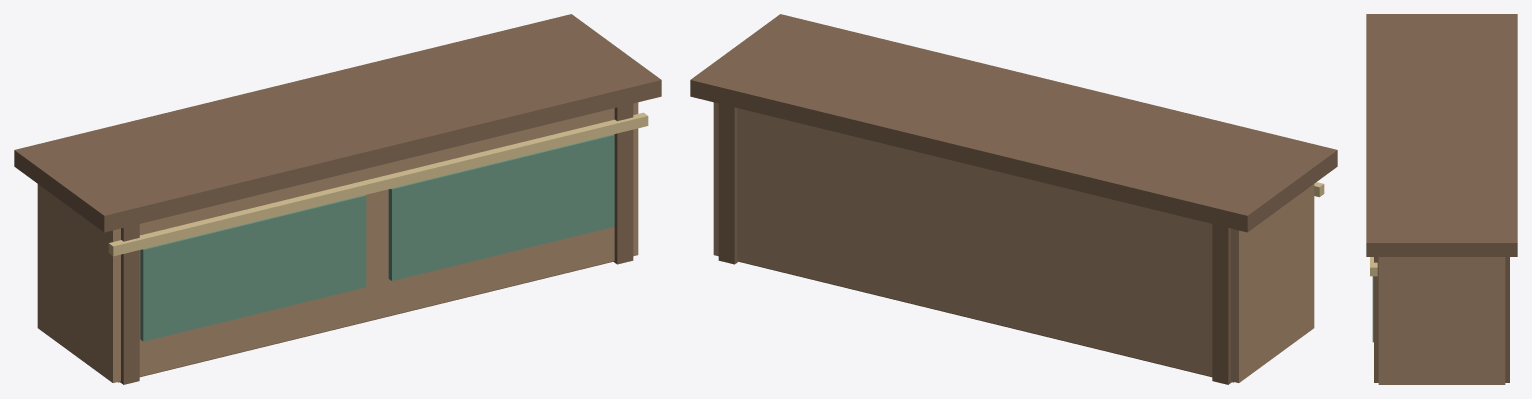
File: shop_counter.glb
The picture shows the model from 3 angles, left to right: view 1: azimuth 30°, elevation 25°; view 2: azimuth 150°, elevation 25°; view 3: azimuth 270°, elevation 25°; orthographic projection. The views are drawn at different scales.
Visible parts, largest first — view 1: shop_counter; view 2: shop_counter; view 3: shop_counter.
Part boxes in pixels (left/top/right/bottom): shop_counter: left=14, top=14, right=661, bottom=384; shop_counter: left=690, top=14, right=1337, bottom=384; shop_counter: left=1366, top=14, right=1517, bottom=384.
Bounding box in the file's own units: 3.5 × 1.08 × 0.98.
